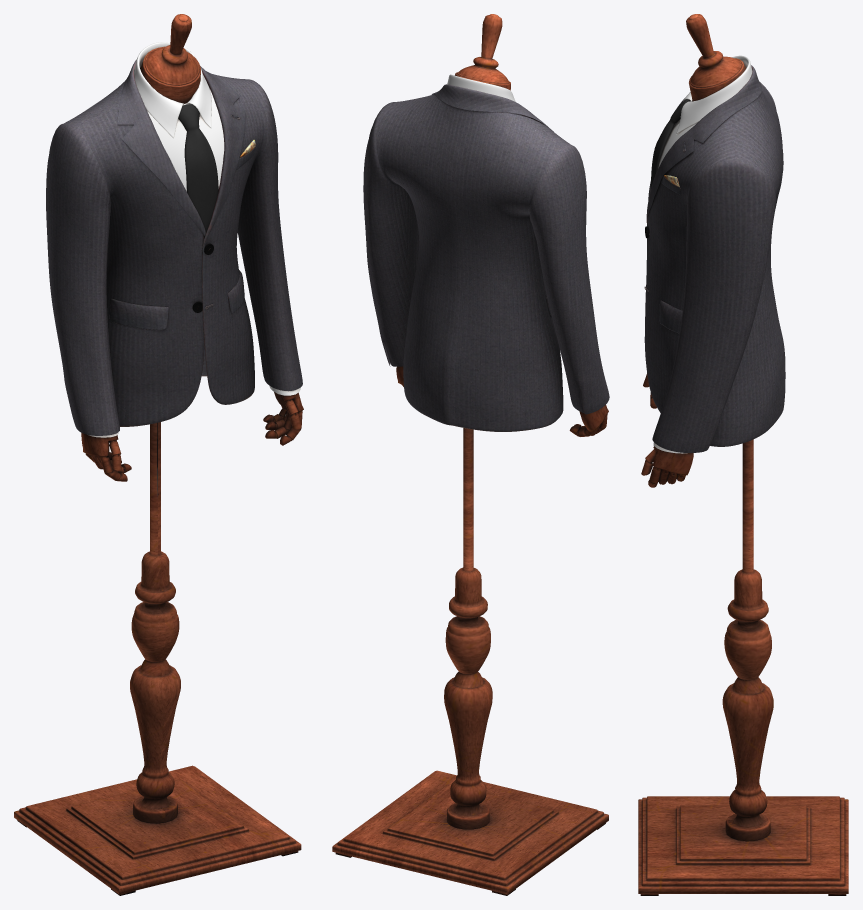
The model's file is Coat-1.glb.
3 renders of one model, left to right at view 1: azimuth 30°, elevation 25°; view 2: azimuth 150°, elevation 25°; view 3: azimuth 270°, elevation 25°, orthographic. The views are drawn at different scales.
Visible parts, largest first — view 1: _gltfNode_18, _gltfNode_0, _gltfNode_27, _gltfNode_36, _gltfNode_60, _gltfNode_21, _gltfNode_42; view 2: _gltfNode_18, _gltfNode_0, _gltfNode_27, _gltfNode_60; view 3: _gltfNode_18, _gltfNode_0, _gltfNode_27, _gltfNode_60, _gltfNode_36, _gltfNode_39, _gltfNode_21.
Boxes of the visible parts, <box> form: _gltfNode_18: <box>46,74,302,435</box>; _gltfNode_0: <box>14,14,303,895</box>; _gltfNode_27: <box>117,60,245,248</box>; _gltfNode_36: <box>178,104,218,238</box>; _gltfNode_60: <box>134,42,211,137</box>; _gltfNode_21: <box>88,87,300,437</box>; _gltfNode_42: <box>109,298,168,330</box>; _gltfNode_18: <box>363,94,609,431</box>; _gltfNode_0: <box>332,14,608,895</box>; _gltfNode_27: <box>431,84,553,131</box>; _gltfNode_60: <box>447,74,515,101</box>; _gltfNode_18: <box>644,82,785,452</box>; _gltfNode_0: <box>638,14,848,895</box>; _gltfNode_27: <box>646,65,762,223</box>; _gltfNode_60: <box>676,55,752,134</box>; _gltfNode_36: <box>650,99,689,189</box>; _gltfNode_39: <box>659,300,682,333</box>; _gltfNode_21: <box>653,119,696,453</box>.
Size of the model in its own units: 0.2032 by 0.7347 by 0.1673.
1 material, 1 textured.
